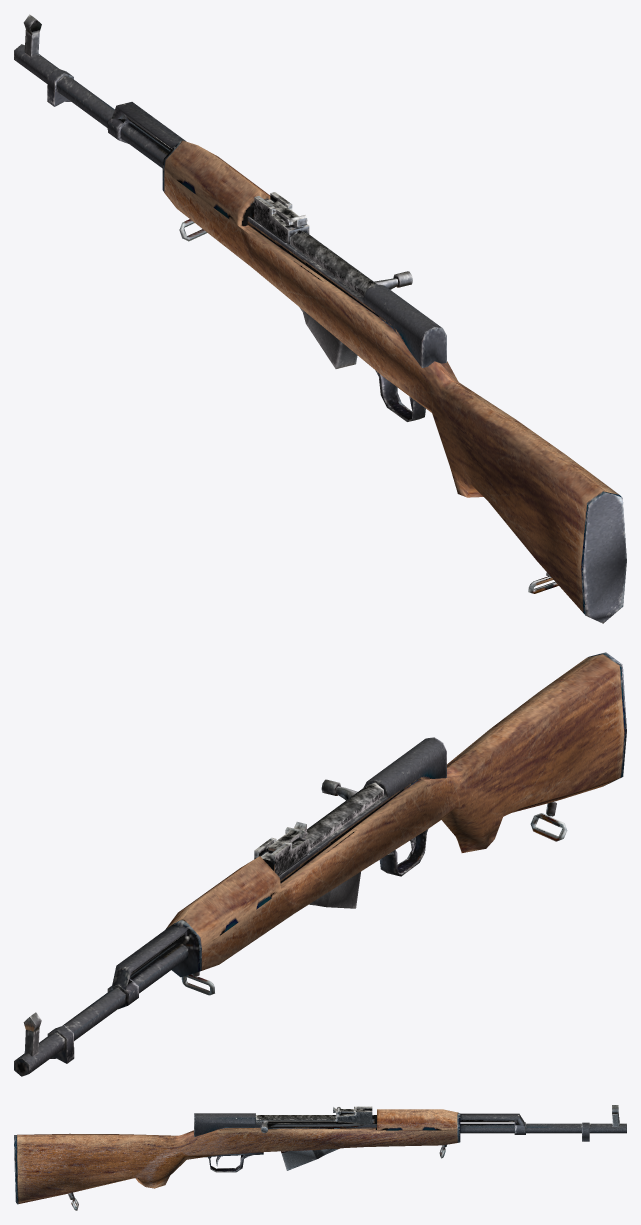
The model's file is SKS.fbx.
The picture shows the model from 3 angles, top to bottom: view 1: azimuth 30°, elevation 25°; view 2: azimuth 150°, elevation 25°; view 3: azimuth 270°, elevation 25°; orthographic projection. The views are drawn at different scales.
Visible parts, largest first — view 1: SKS_LP; view 2: SKS_LP; view 3: SKS_LP.
Boxes of the visible parts, x1=… form: SKS_LP: x1=14, y1=14, x2=626, y2=623; SKS_LP: x1=14, y1=652, x2=626, y2=1076; SKS_LP: x1=14, y1=1105, x2=626, y2=1210.
Bounding box in the file's own units: 0.0371 × 0.5881 × 0.1106.
